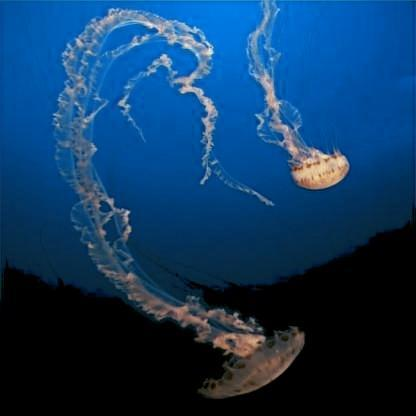Mosaic: (56, 7, 307, 395), (243, 4, 349, 188)
